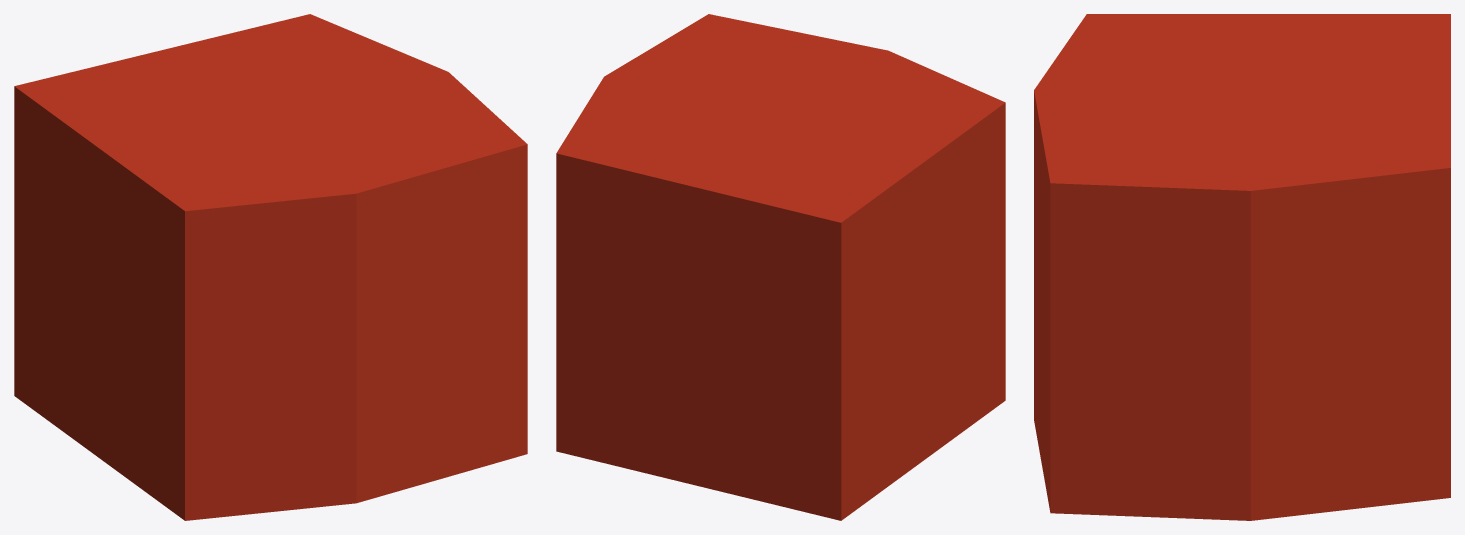
The model's file is ground_rock_corner_in.glb.
3 renders of one model, left to right at view 1: azimuth 30°, elevation 25°; view 2: azimuth 150°, elevation 25°; view 3: azimuth 270°, elevation 25°, orthographic. The views are drawn at different scales.
Parts seen in each view (by area): view 1: ground_rock_corner_in; view 2: ground_rock_corner_in; view 3: ground_rock_corner_in.
Part boxes in pixels (x1=…): ground_rock_corner_in: x1=14, y1=14, x2=527, y2=520; ground_rock_corner_in: x1=556, y1=14, x2=1005, y2=520; ground_rock_corner_in: x1=1034, y1=14, x2=1450, y2=520.
Size of the model in its own units: 2.3 by 2 by 2.29.
